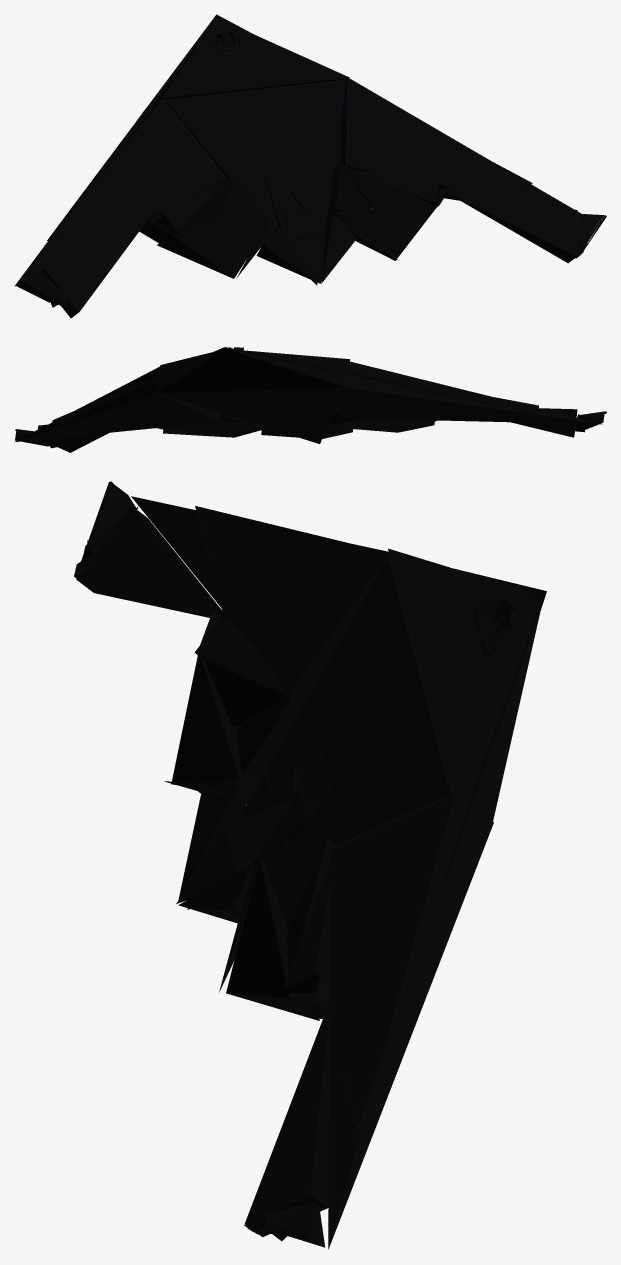
The model's file is A4BMBR.glb.
3 renders of one model, top to bottom at view 1: azimuth 30°, elevation 25°; view 2: azimuth 150°, elevation 25°; view 3: azimuth 270°, elevation 25°, orthographic. The views are drawn at different scales.
Visible parts, largest first — view 1: mesh_id488, mesh_id252, mesh_id450, mesh_id468, mesh_id454, mesh_id1076, mesh_id217, mesh_id699, mesh_id1143, mesh_id703, mesh_id1074, mesh_id615 (+12 smaller); view 2: mesh_id252, mesh_id468, mesh_id450, mesh_id488, mesh_id1143, mesh_id699, mesh_id1076, mesh_id217, mesh_id454, mesh_id256, mesh_id448, mesh_id1074 (+2 smaller); view 3: mesh_id450, mesh_id488, mesh_id252, mesh_id468, mesh_id1143, mesh_id454, mesh_id217, mesh_id699, mesh_id1076, mesh_id705, mesh_id1074, mesh_id1078 (+10 smaller).
Part boxes in pixels (<box>): mesh_id488: <box>165,79,346,285</box>; mesh_id252: <box>14,98,226,286</box>; mesh_id450: <box>340,78,581,213</box>; mesh_id468: <box>142,22,349,112</box>; mesh_id454: <box>447,189,577,263</box>; mesh_id1076: <box>157,218,272,278</box>; mesh_id217: <box>41,220,146,318</box>; mesh_id699: <box>326,204,438,260</box>; mesh_id1143: <box>47,14,532,240</box>; mesh_id703: <box>341,164,429,208</box>; mesh_id1074: <box>220,176,269,226</box>; mesh_id615: <box>256,226,319,283</box>; mesh_id252: <box>340,361,601,424</box>; mesh_id468: <box>157,349,349,393</box>; mesh_id450: <box>14,366,220,442</box>; mesh_id488: <box>160,387,342,443</box>; mesh_id1143: <box>52,347,538,424</box>; mesh_id699: <box>163,423,266,437</box>; mesh_id1076: <box>327,418,434,432</box>; mesh_id217: <box>511,408,577,437</box>; mesh_id454: <box>37,424,109,452</box>; mesh_id256: <box>579,411,604,430</box>; mesh_id448: <box>15,429,48,446</box>; mesh_id1074: <box>329,406,362,425</box>; mesh_id450: <box>328,793,493,1249</box>; mesh_id488: <box>187,557,452,909</box>; mesh_id252: <box>131,496,390,702</box>; mesh_id468: <box>388,548,539,821</box>; mesh_id1143: <box>195,506,546,1130</box>; mesh_id454: <box>245,1001,329,1237</box>; mesh_id217: <box>76,504,230,620</box>; mesh_id699: <box>226,858,319,1020</box>; mesh_id1076: <box>171,655,256,793</box>; mesh_id705: <box>282,862,330,993</box>; mesh_id1074: <box>236,698,302,786</box>; mesh_id1078: <box>194,617,299,703</box>.
Bounding box in the file's own units: 0.4963 × 0.1856 × 0.1869.
Materials: 57 (57 with a texture image).
